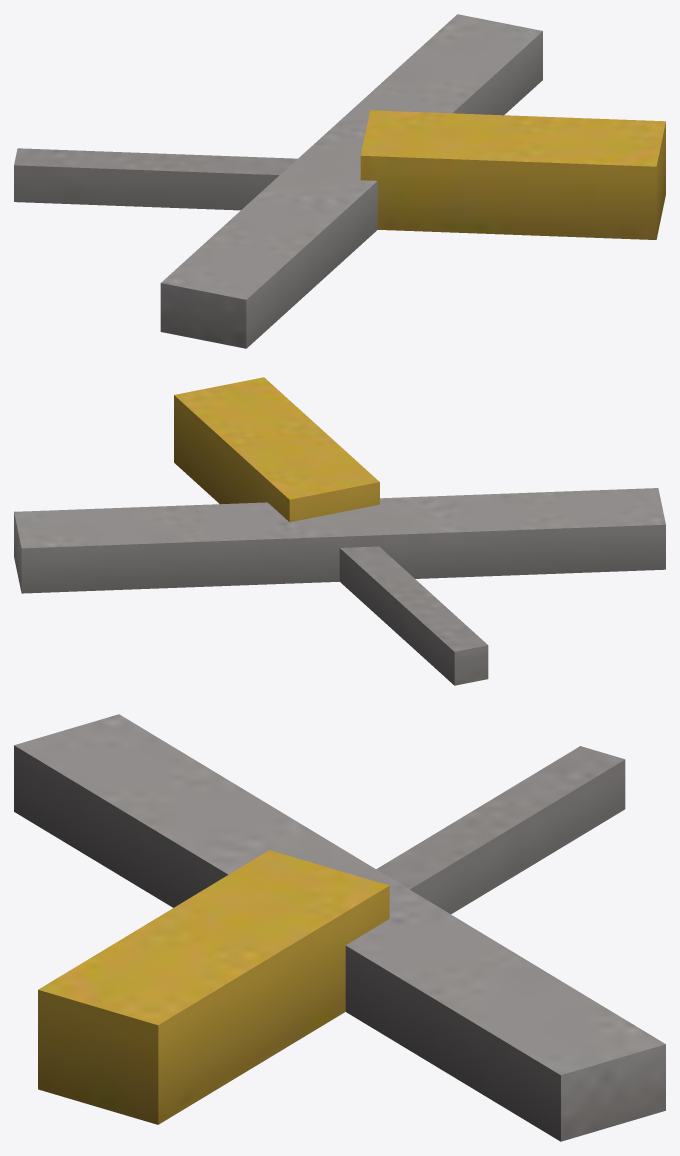
The model's file is repair-pack.glb.
The picture shows the model from 3 angles, top to bottom: view 1: azimuth 30°, elevation 25°; view 2: azimuth 150°, elevation 25°; view 3: azimuth 270°, elevation 25°; orthographic projection. The views are drawn at different scales.
Visible parts, largest first — view 1: repair-pack; view 2: repair-pack; view 3: repair-pack.
Boxes of the visible parts, box(x1,y1,x2,y2) form: repair-pack: box(14, 14, 665, 348); repair-pack: box(14, 377, 665, 685); repair-pack: box(14, 714, 665, 1141).
Size of the model in its own units: 0.2331 by 0.03 by 0.1778.
1 material, 1 textured.
